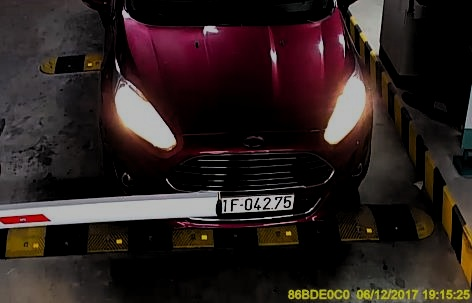plate: (221, 192, 300, 213)
